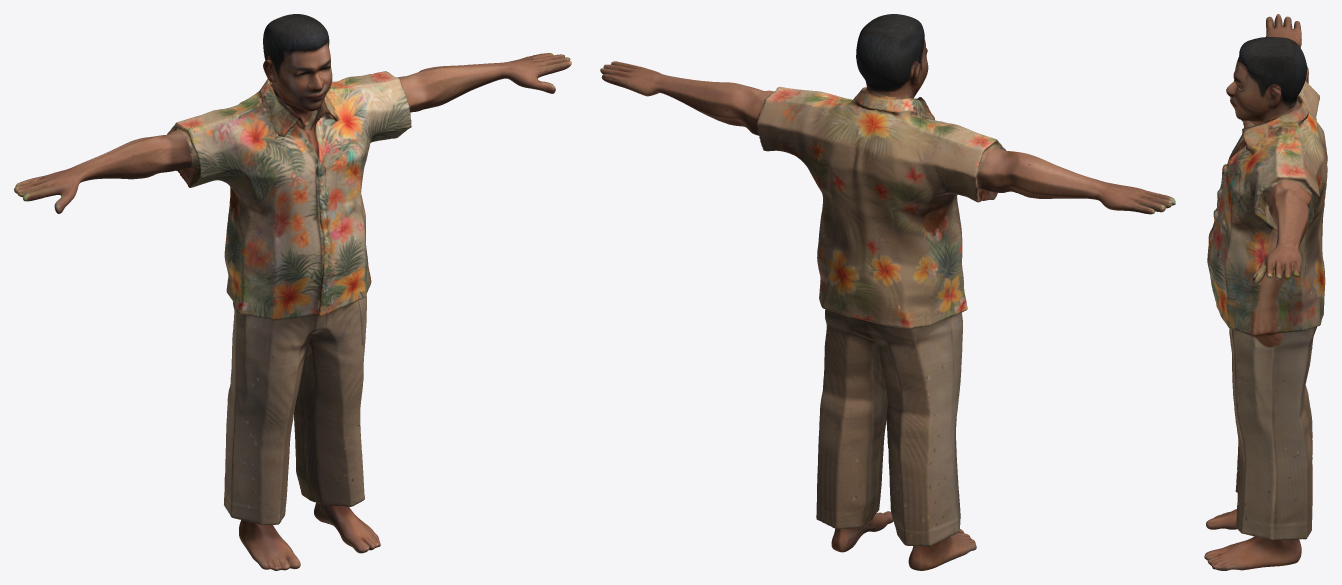
File: A_3D_model_of_an_Indo_0825083315_texture.fbx
3 views of the same model, side by side, from view 1: azimuth 30°, elevation 25°; view 2: azimuth 150°, elevation 25°; view 3: azimuth 270°, elevation 25° (orthographic). The views are drawn at different scales.
Visible parts, largest first — view 1: Mesh_0; view 2: Mesh_0; view 3: Mesh_0.
Boxes of the visible parts, x1,y1,x2,y2 form: Mesh_0: (14, 14, 571, 570); Mesh_0: (600, 14, 1175, 570); Mesh_0: (1204, 14, 1327, 570).
Size of the model in its own units: 200 by 179 by 39.84.
1 material, 1 textured.
